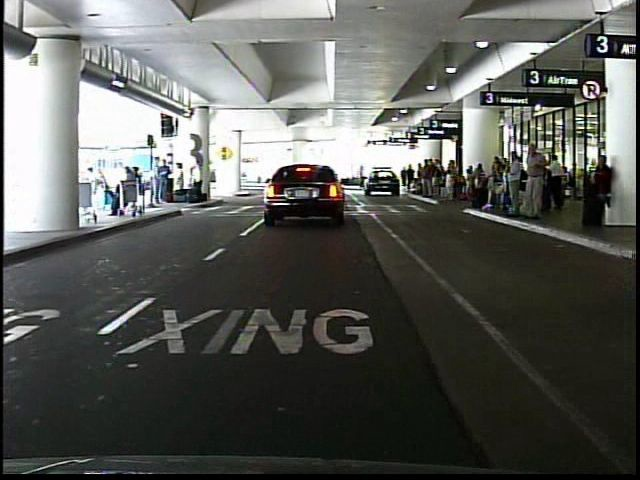person: (519, 137, 550, 226), (581, 150, 611, 229), (543, 152, 566, 211), (504, 149, 523, 220), (89, 157, 110, 214), (159, 156, 174, 204), (190, 158, 205, 202), (174, 161, 188, 202)
